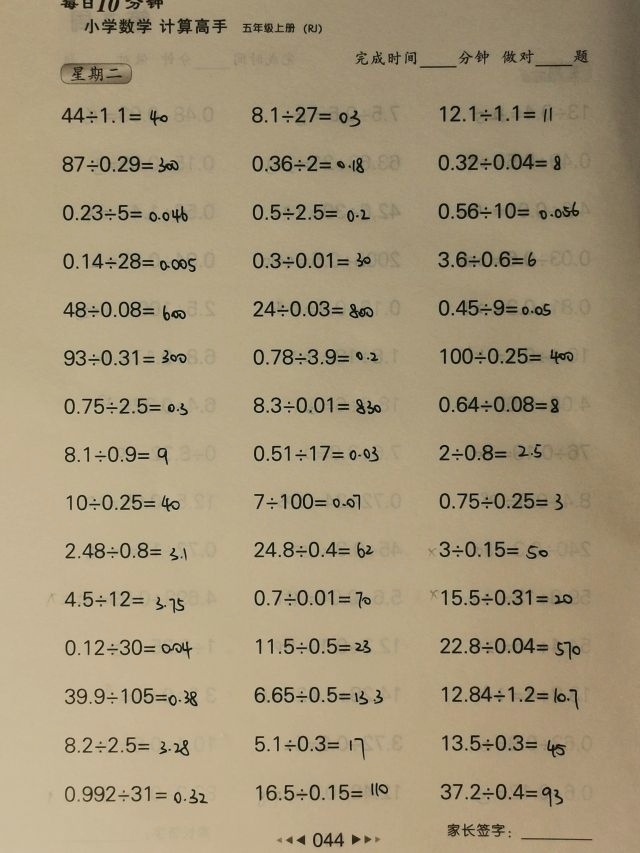equation: (437, 680, 583, 710), (435, 632, 583, 660), (60, 780, 211, 807), (438, 728, 570, 758), (434, 198, 583, 224), (58, 247, 199, 274), (61, 682, 201, 709), (436, 779, 565, 808), (253, 779, 396, 805), (437, 343, 578, 369), (60, 585, 189, 613), (250, 681, 386, 707), (249, 392, 384, 418), (59, 296, 189, 323), (61, 634, 195, 660), (438, 585, 577, 610), (58, 199, 191, 225), (434, 390, 562, 417), (434, 487, 566, 513), (60, 393, 191, 419), (434, 149, 565, 175), (250, 733, 371, 761), (61, 537, 191, 563), (249, 295, 377, 321), (60, 733, 193, 758), (250, 441, 383, 466), (250, 344, 383, 369), (247, 199, 373, 225), (60, 344, 190, 369), (250, 584, 374, 610), (58, 150, 182, 176), (54, 102, 172, 129), (251, 537, 378, 562), (433, 294, 555, 320), (247, 101, 364, 128), (249, 248, 375, 273), (62, 489, 183, 515), (247, 150, 368, 176), (435, 100, 556, 126), (253, 634, 375, 659), (435, 536, 551, 562), (60, 441, 172, 467), (251, 489, 365, 514), (434, 246, 541, 272), (434, 439, 545, 464)
